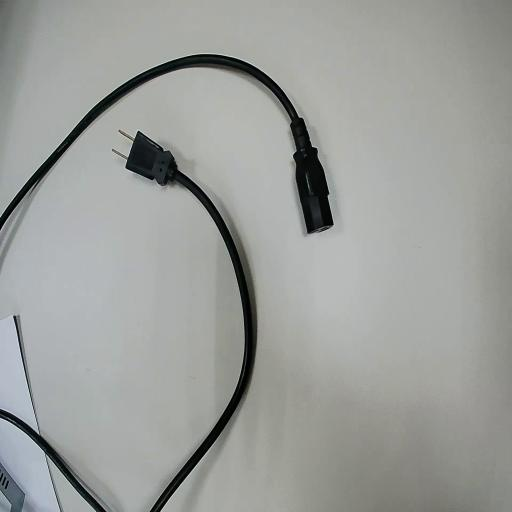wire: (0, 55, 331, 232), (127, 133, 255, 511)
